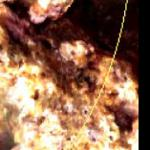alive: (4, 4, 136, 146)
